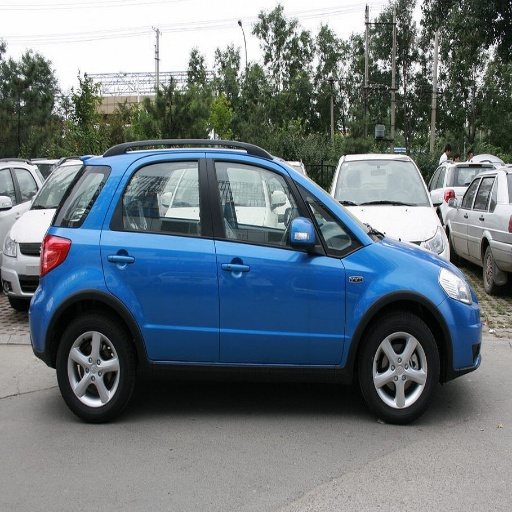back_bumper: (18, 276, 58, 345)
back_right_door: (103, 151, 219, 361)
front_right_door: (207, 152, 348, 364)
